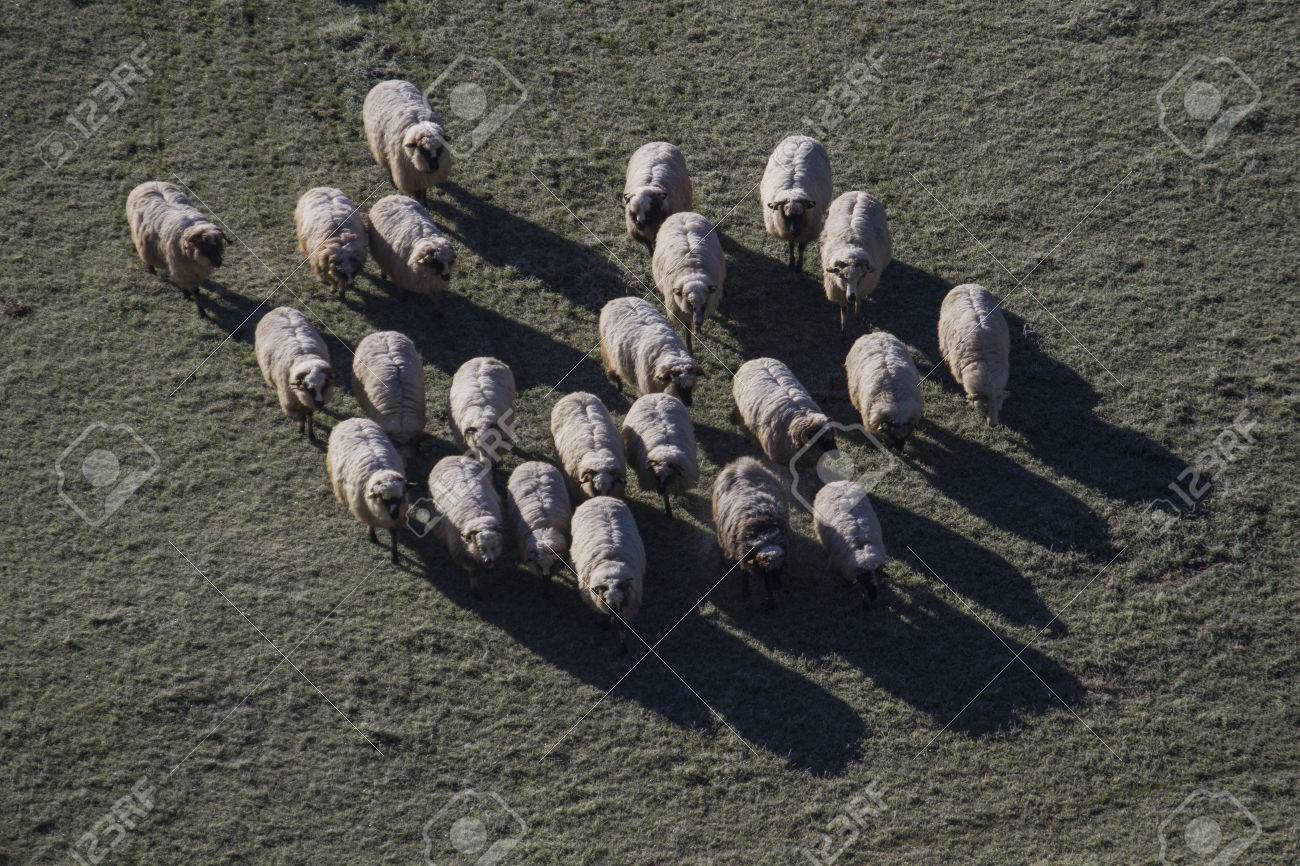sheep: (321, 411, 419, 573), (119, 180, 229, 314), (725, 352, 838, 480), (566, 493, 649, 655), (711, 455, 794, 614), (934, 280, 1020, 431), (425, 448, 509, 602), (841, 325, 929, 468), (594, 296, 705, 409), (248, 305, 336, 442), (365, 73, 462, 196), (812, 473, 896, 610), (369, 192, 459, 315), (623, 390, 711, 514), (820, 189, 899, 327), (653, 209, 728, 354), (287, 181, 370, 311), (761, 131, 834, 275), (348, 327, 433, 448), (446, 355, 525, 476), (548, 388, 625, 505), (507, 460, 574, 594), (617, 135, 695, 247)
